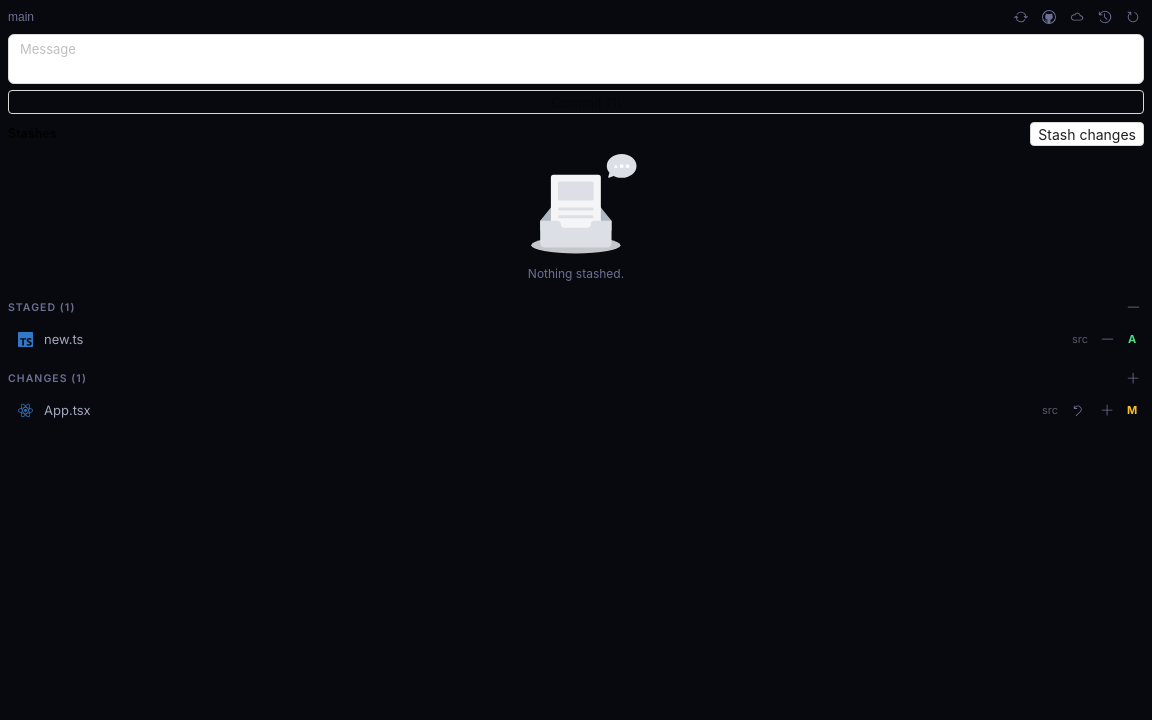
Test: SourceControlPanel discarding › does nothing until the confirmation is accepted
Expected: the text "App.tsx" is shown, [44,402,91,418]
Click the button named "Discard changes to src/App.tsx" at (1077, 410), box [1066,399,1088,421]
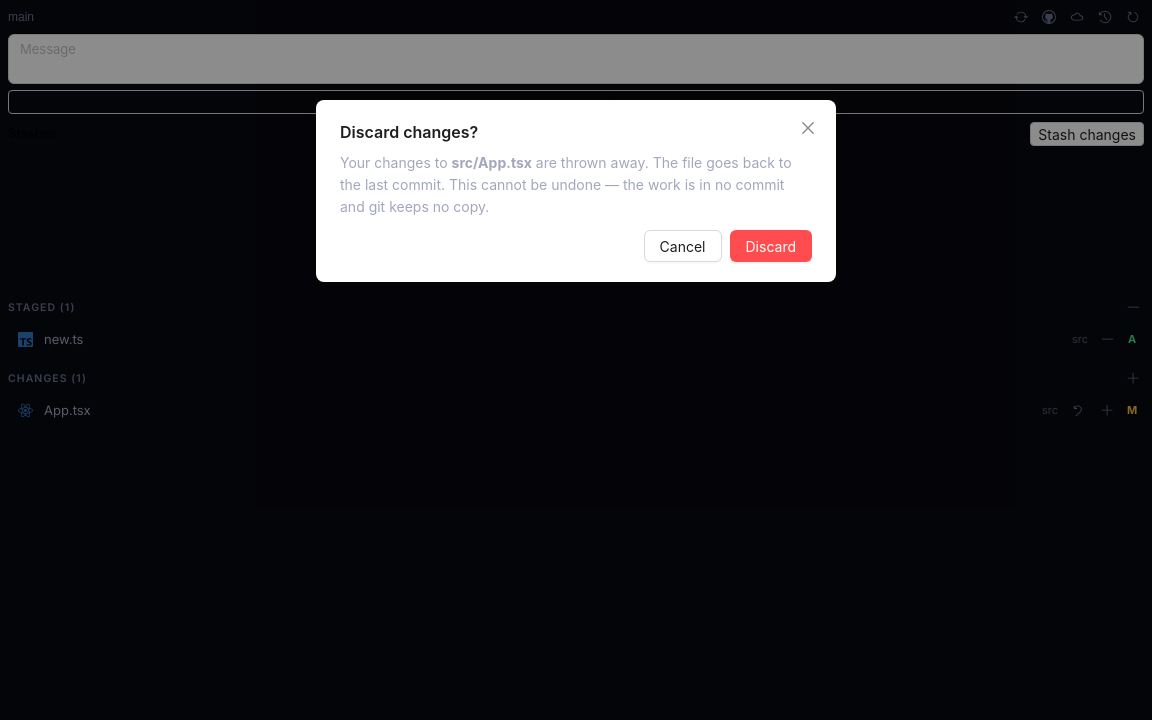
Result: the text "Discard changes?" is shown at [340,122,478,142]
